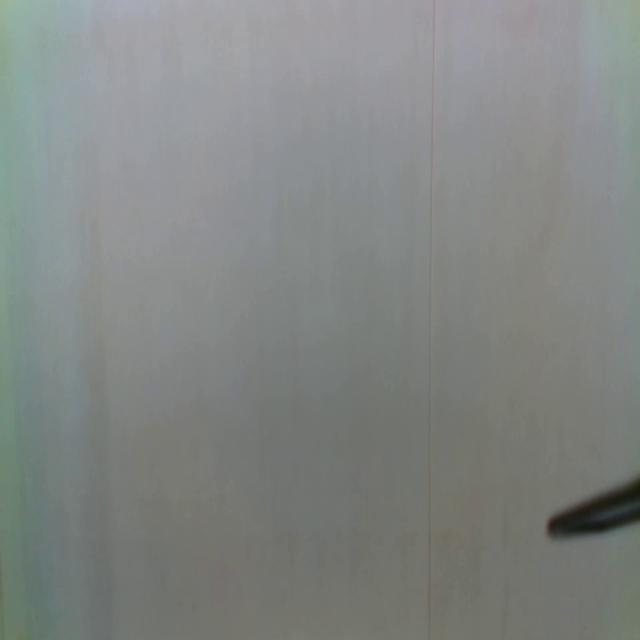crease: (424, 0, 438, 640)
